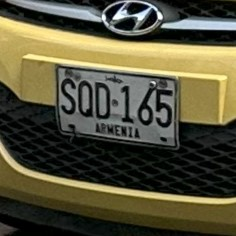number plate: (0, 16, 235, 149), (0, 138, 235, 235), (57, 66, 178, 148), (6, 0, 235, 36), (185, 153, 220, 167)
